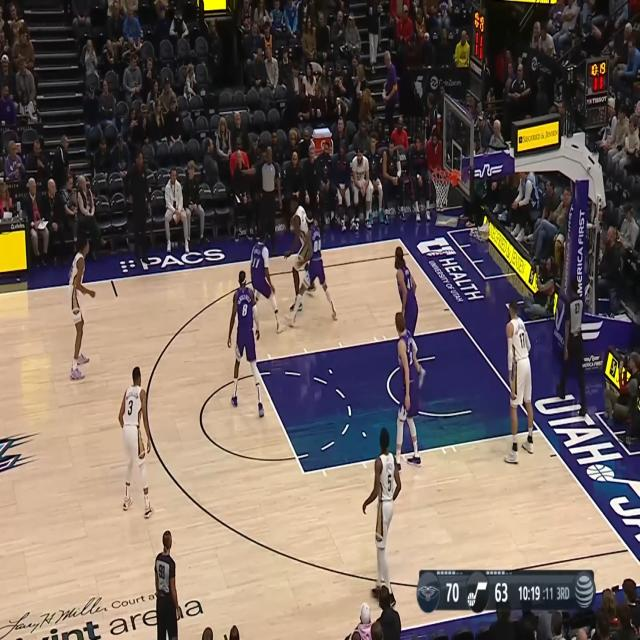Hoop: (431, 168, 452, 212)
Period: (556, 583, 570, 603)
Player: (362, 424, 402, 612), (284, 208, 338, 328), (228, 267, 268, 418), (504, 291, 537, 464), (118, 362, 154, 518), (392, 309, 423, 470), (394, 246, 426, 384), (250, 225, 289, 333), (68, 235, 96, 379), (286, 189, 316, 311)
Ref: (239, 146, 284, 254), (556, 276, 588, 415), (155, 528, 181, 640)
Shot Clock: (543, 585, 554, 603)
Team Points: (445, 579, 460, 606), (496, 580, 508, 605)
Time Remaining: (518, 580, 540, 604)
